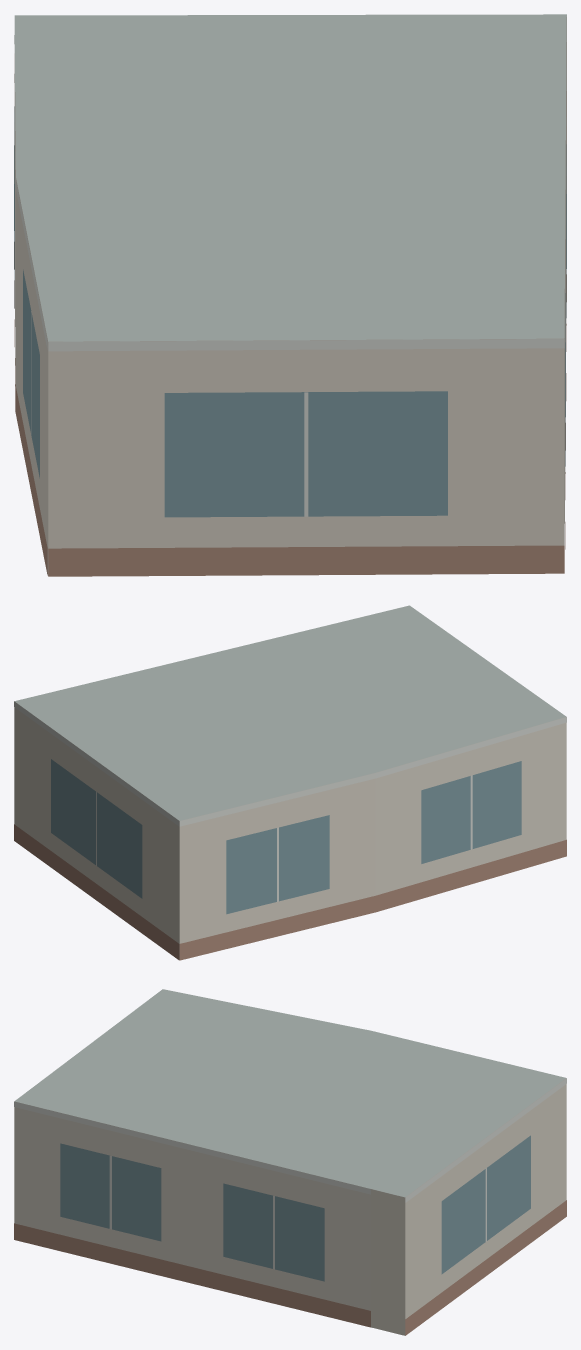
File: survey-upis-32802544.glb
3 views of the same model, one above another, from view 1: azimuth 30°, elevation 25°; view 2: azimuth 150°, elevation 25°; view 3: azimuth 270°, elevation 25° (orthographic). The views are drawn at different scales.
Parts seen in each view (by area): view 1: survey-upis-32802544.tmp; view 2: survey-upis-32802544.tmp; view 3: survey-upis-32802544.tmp.
Part boxes in pixels (x1,y1,x2,y2): survey-upis-32802544.tmp: [14, 14, 566, 576]; survey-upis-32802544.tmp: [14, 605, 566, 960]; survey-upis-32802544.tmp: [14, 989, 566, 1335].
Size of the model in its own units: 9.85 by 3.05 by 11.04.
